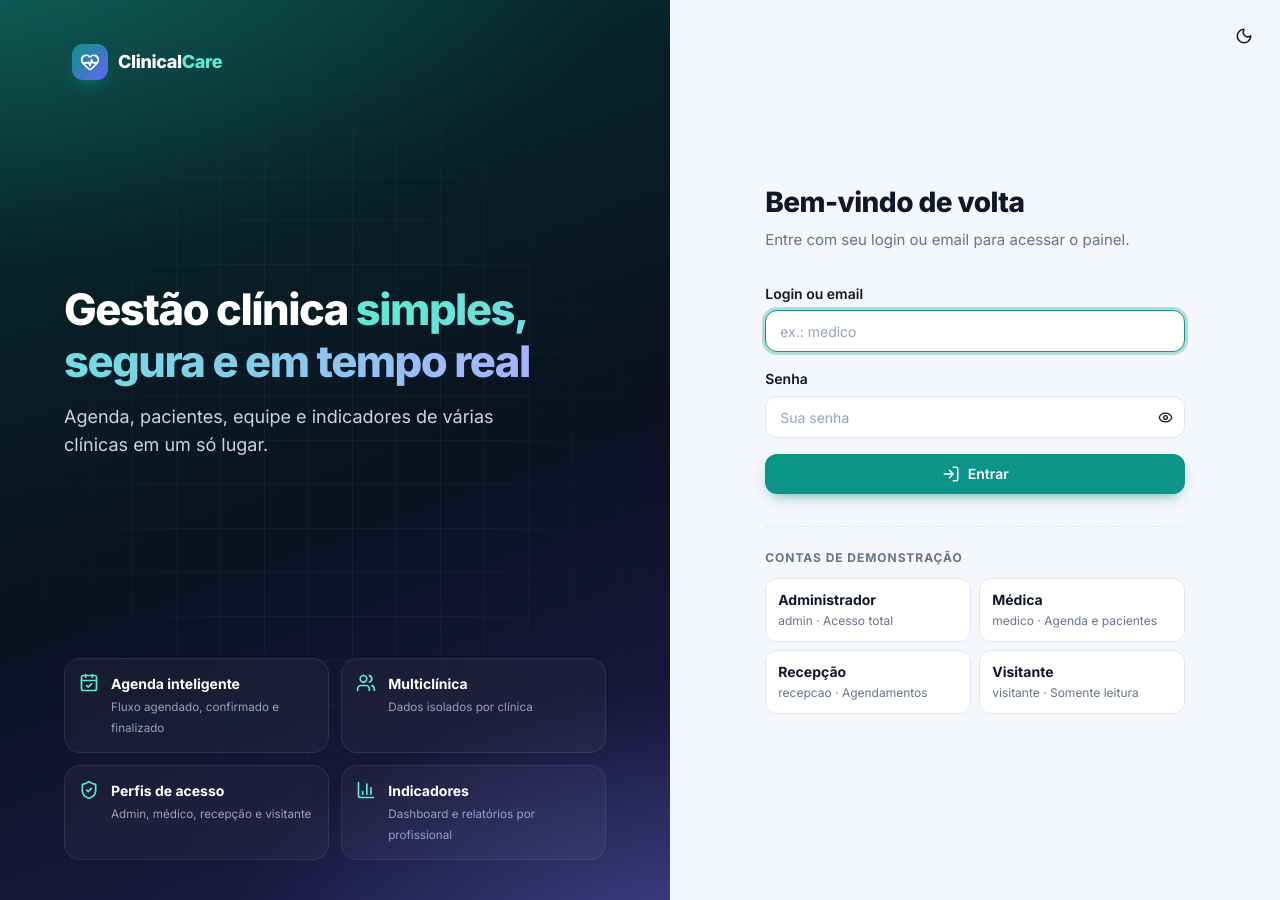
Scenario: login › administrador escolhe a clínica antes de entrar no painel
Click the button "Administrador admin · Acesso total".
click(868, 610)  # box [765,578,971,642]
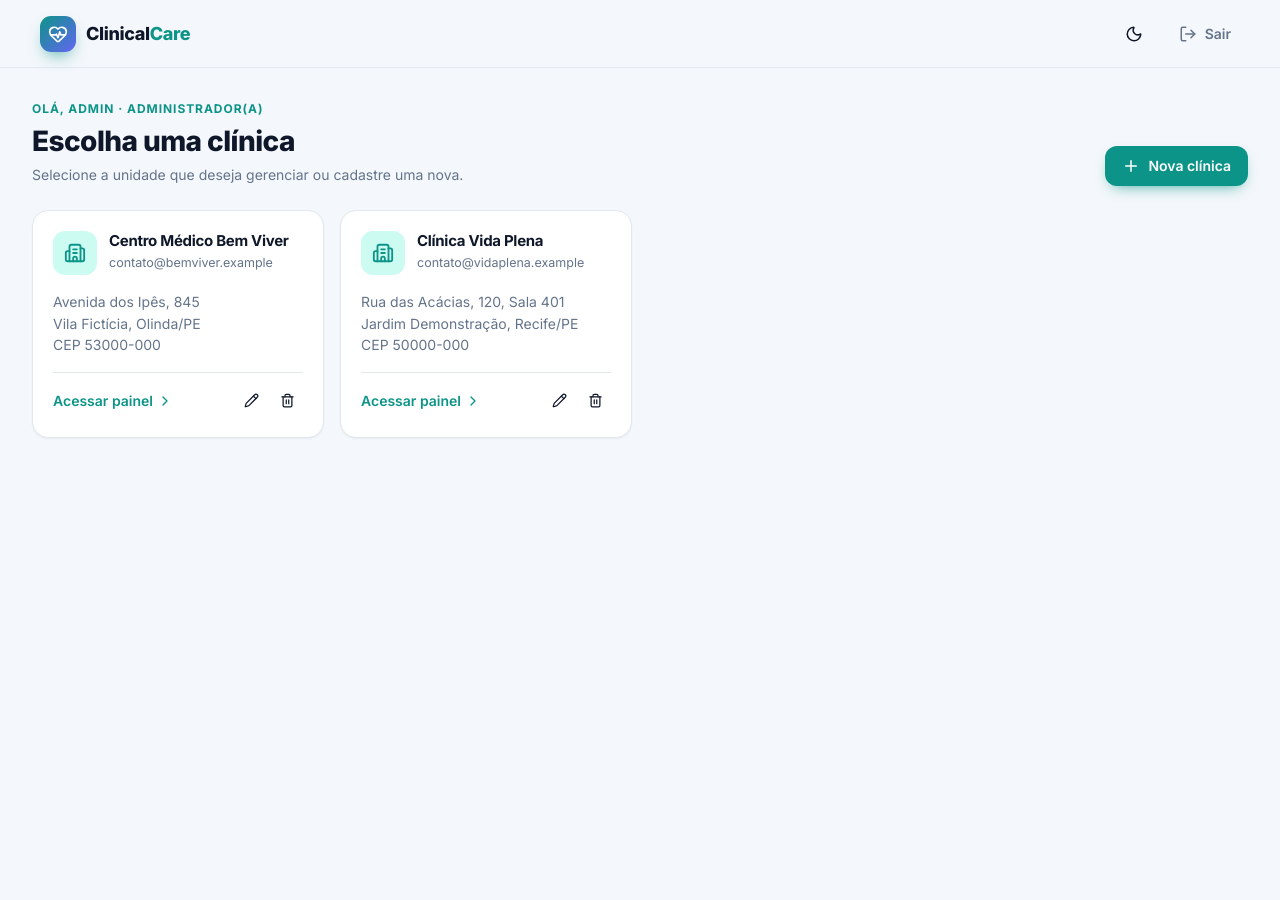
Click the button with aria-label "Entrar na Centro Médico Bem Viver".
click(178, 324)  # box [32,210,324,438]
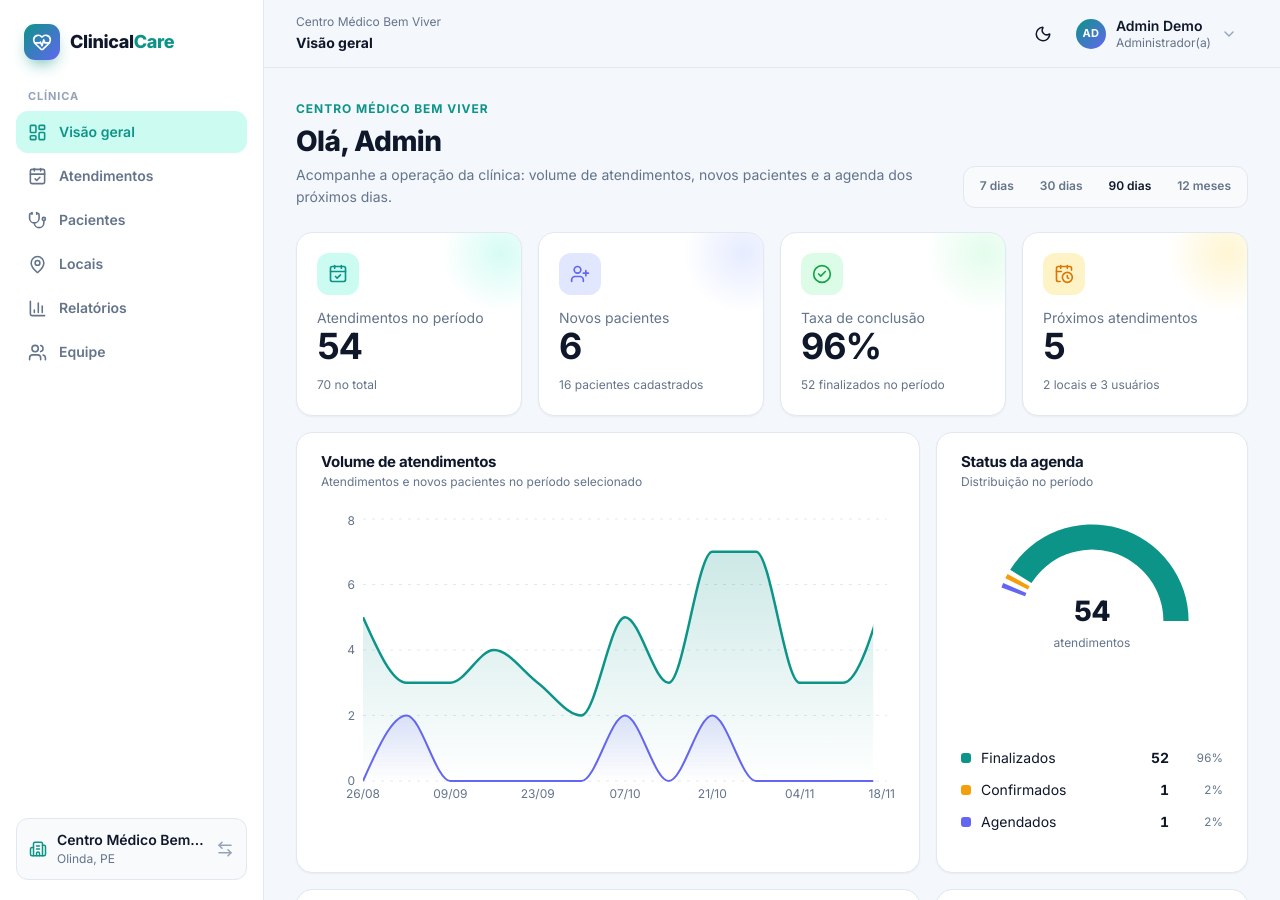
Now the heading "Olá, Admin" is shown, box [296,124,441,158]
Now the 3rd text "Centro Médico Bem Viver" is shown, box [57,829,206,850]
